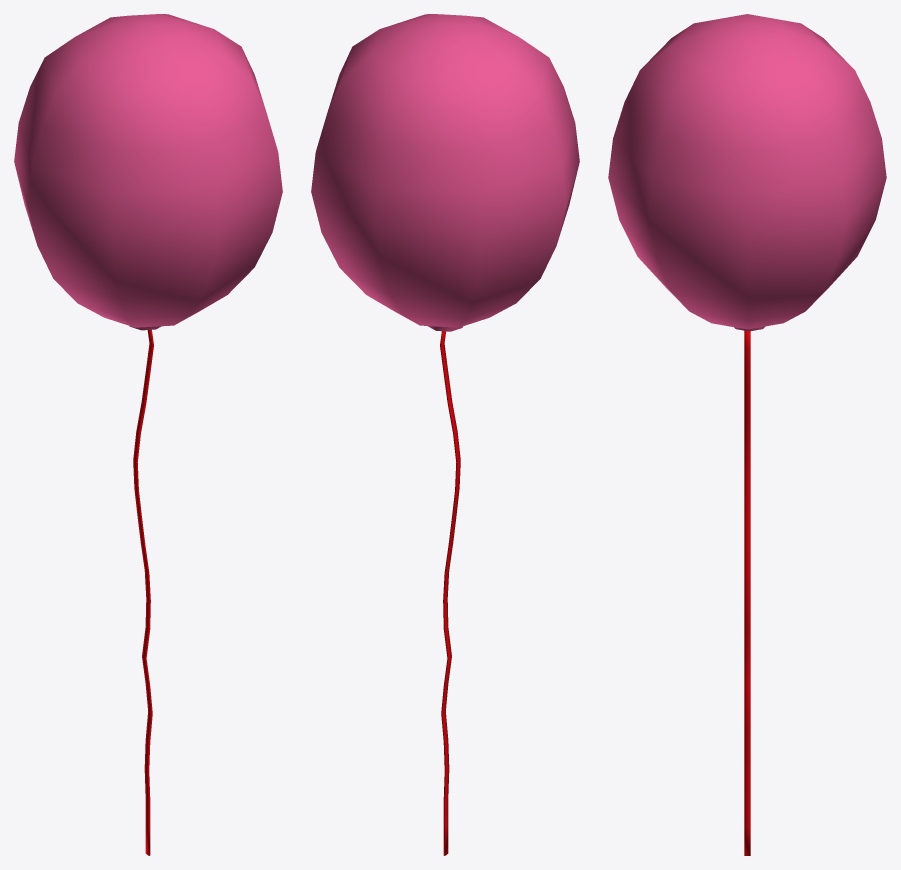
File: balloon3.fbx
The picture shows the model from 3 angles, left to right: view 1: azimuth 30°, elevation 25°; view 2: azimuth 150°, elevation 25°; view 3: azimuth 270°, elevation 25°; orthographic projection.
Visible parts, largest first — view 1: balloon3; view 2: balloon3; view 3: balloon3.
Boxes of the visible parts, <box> form: balloon3: <box>14,14,282,855</box>; balloon3: <box>311,14,579,855</box>; balloon3: <box>608,14,886,855</box>.
Bounding box in the file's own units: 183 × 602 × 183.
